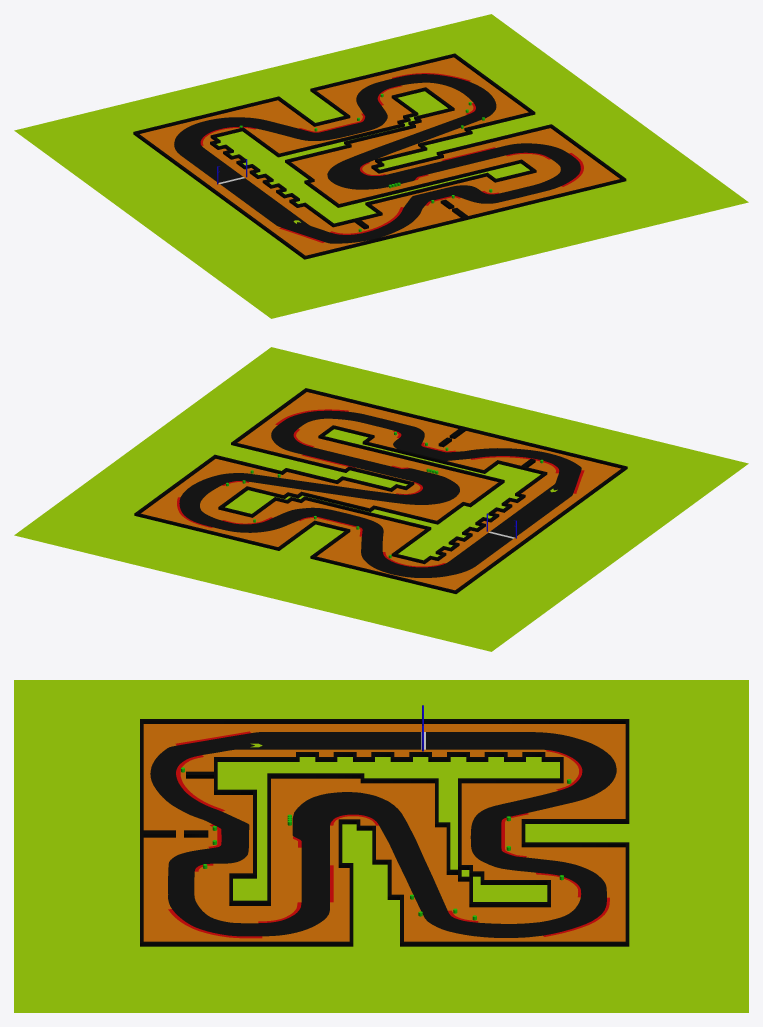
3 renders of one model, top to bottom at view 1: azimuth 30°, elevation 25°; view 2: azimuth 150°, elevation 25°; view 3: azimuth 270°, elevation 25°, orthographic. The views are drawn at different scales.
Visible parts, largest first — view 1: Boost_panel.001; view 2: Boost_panel.001; view 3: Boost_panel.001.
Part boxes in pixels (x1=…): Boost_panel.001: x1=14, y1=14, x2=748, y2=318; Boost_panel.001: x1=14, y1=347, x2=748, y2=651; Boost_panel.001: x1=14, y1=680, x2=748, y2=1012.
Bounding box in the file's own units: 619 × 31.89 × 578.
